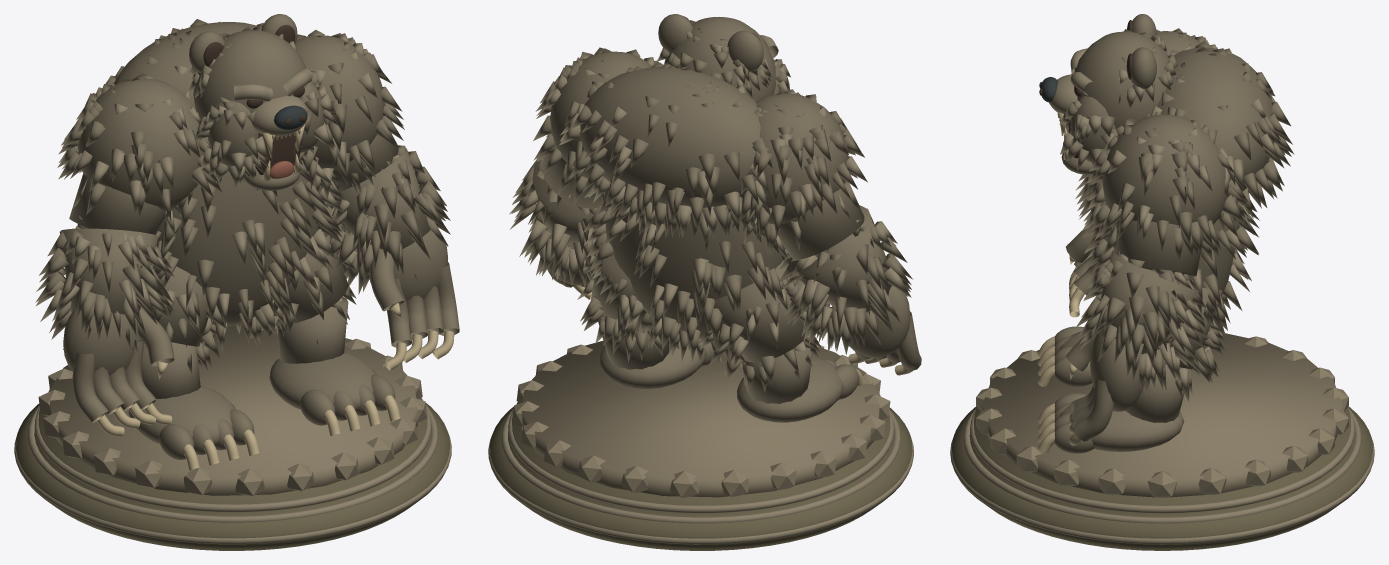
3 views of the same model, side by side, from view 1: azimuth 30°, elevation 25°; view 2: azimuth 150°, elevation 25°; view 3: azimuth 270°, elevation 25° (orthographic). The views are drawn at different scales.
Visible parts, largest first — view 1: rocky stage, circular stepped plinth, massive hunched torso, bulging deltoid, bear skull, bulging deltoid.001, base trim.001, base trim.002, large bear foot.001, high back hump, thick hairy forearm, wide long palm (+38 smaller); view 2: rocky stage, circular stepped plinth, high back hump, massive hunched torso, bulging deltoid, massive thigh, base trim.001, base trim.002, bear skull, thick hairy forearm, long muscular upper arm, large bear foot (+19 smaller); view 3: rocky stage, circular stepped plinth, bulging deltoid.001, high back hump, bear skull, base trim.001, base trim.002, base trim, long muscular upper arm.001, large bear foot.001, thick hairy forearm.001, wide long palm.001 (+18 smaller).
Boxes of the visible parts, <box> form: rocky stage: <box>48,324,417,495</box>; circular stepped plinth: <box>16,397,449,550</box>; massive hunched torso: <box>157,164,322,326</box>; bulging deltoid: <box>77,78,204,210</box>; bear skull: <box>193,30,307,119</box>; bulging deltoid.001: <box>295,35,384,169</box>; base trim.001: <box>28,405,438,522</box>; base trim.002: <box>34,406,431,512</box>; large bear foot.001: <box>269,351,376,411</box>; high back hump: <box>114,22,258,107</box>; thick hairy forearm: <box>59,228,158,314</box>; wide long palm: <box>63,308,141,376</box>; rocky stage: <box>521,341,880,497</box>; circular stepped plinth: <box>490,402,912,550</box>; high back hump: <box>579,66,760,211</box>; massive hunched torso: <box>604,187,785,338</box>; bulging deltoid: <box>755,93,848,224</box>; massive thigh: <box>714,261,810,362</box>; base trim.001: <box>501,409,900,523</box>; base trim.002: <box>508,410,894,513</box>; bear skull: <box>664,17,775,99</box>; thick hairy forearm: <box>786,205,891,312</box>; long muscular upper arm: <box>778,180,864,259</box>; large bear foot: <box>736,357,843,422</box>; rocky stage: <box>982,332,1342,497</box>; circular stepped plinth: <box>952,406,1372,550</box>; bulging deltoid.001: <box>1102,114,1226,231</box>; high back hump: <box>1156,47,1273,191</box>; bear skull: <box>1073,31,1171,128</box>; base trim.001: <box>963,407,1361,523</box>; base trim.002: <box>970,408,1354,513</box>; base trim: <box>950,439,1374,544</box>; long muscular upper arm.001: <box>1115,220,1203,276</box>; large bear foot.001: <box>1059,397,1184,451</box>; thick hairy forearm.001: <box>1095,251,1199,354</box>; wide long palm.001: <box>1090,334,1144,411</box>.
Size of the model in its own units: 0.9257 by 1 by 0.884.
